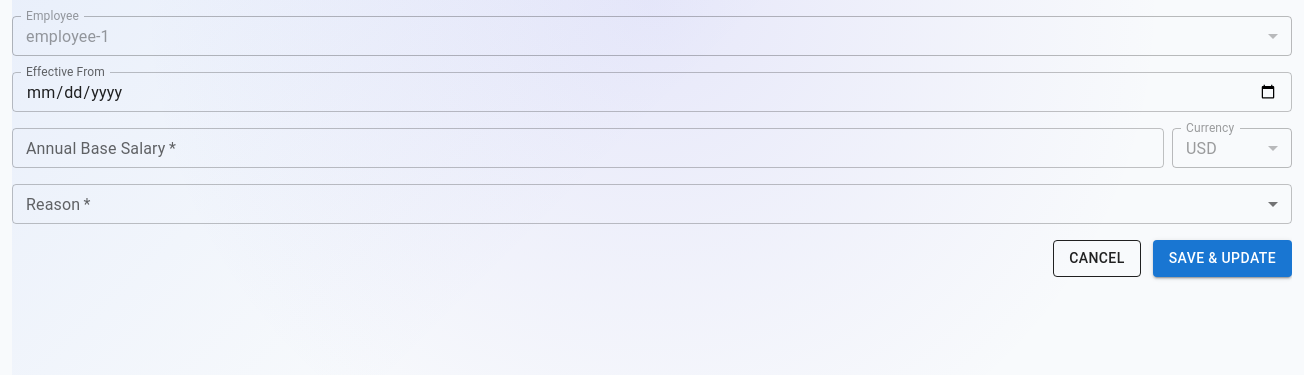
SalaryUpdateForm › validates salary amount
Type "0" into the number field labelled "Annual Base Salary *" at (588, 148), box [12,128,1164,168]
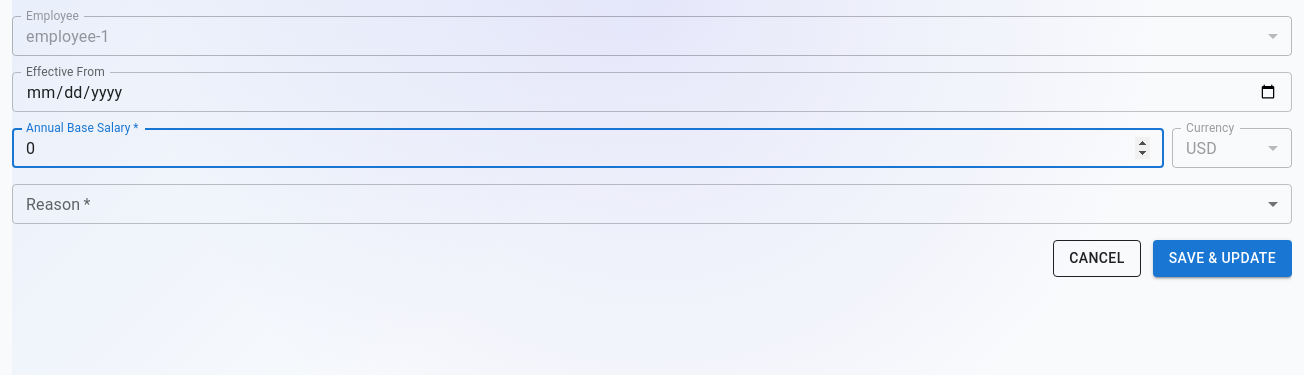
Click the button "Save & Update" at (1222, 258), box [1153,240,1292,276]
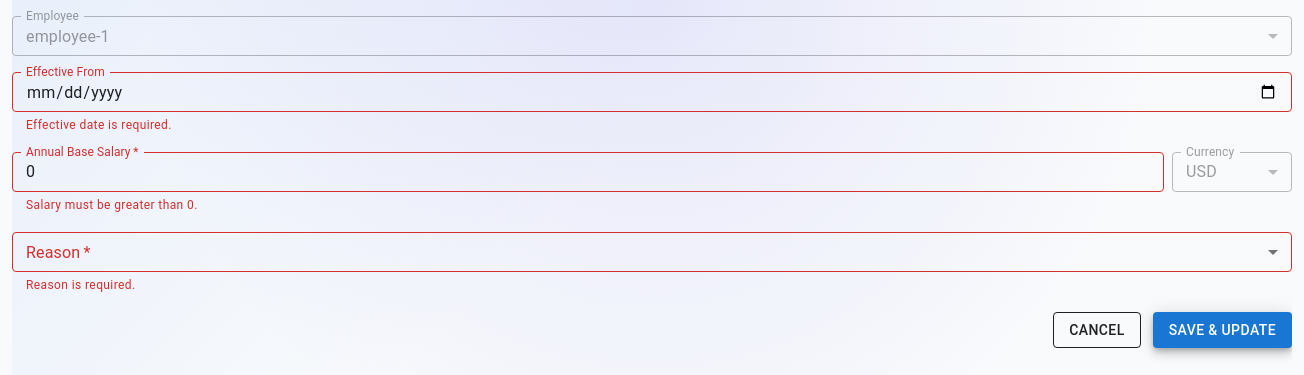
Expected: the text "Salary must be greater than 0." is shown, [26,198,198,212]
